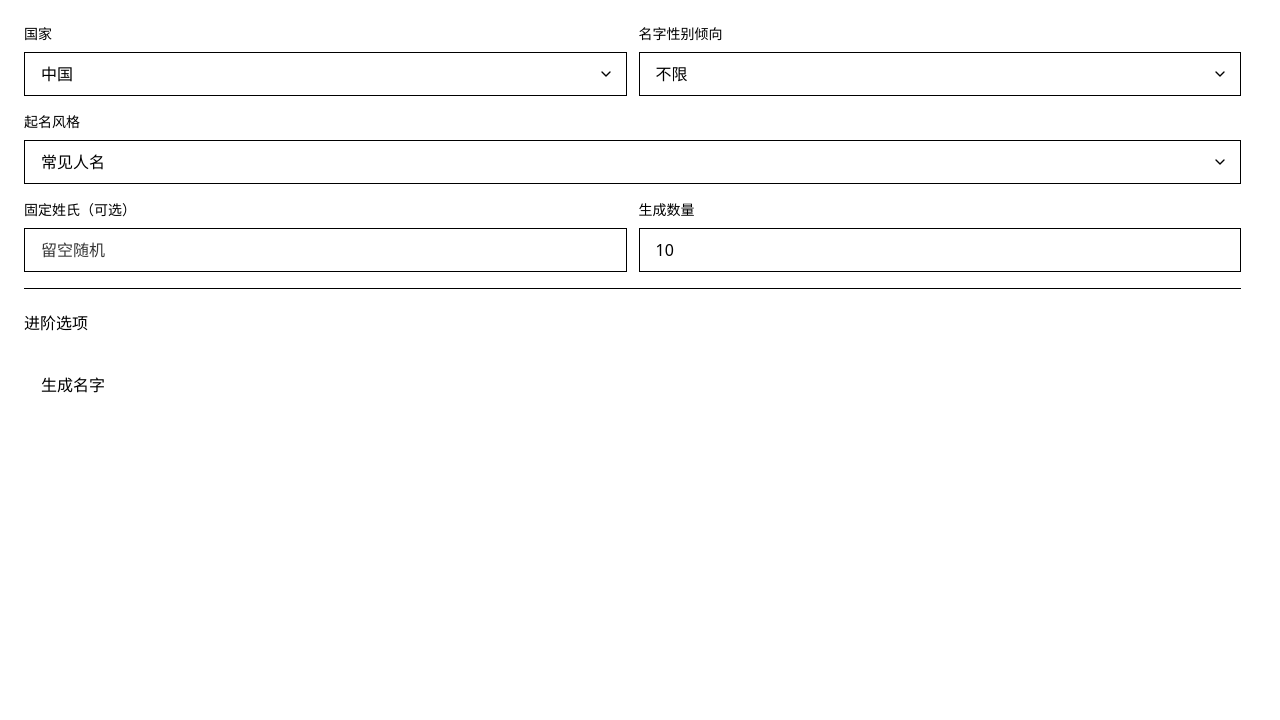
it: 有限重试未凑满时只提示真实结果数，不声称容量
The width and height of the screenshot is (1280, 720).
Replace the text in the number field labelled "生成数量" with "50" at (940, 250), box 638,228 -> 1241,272
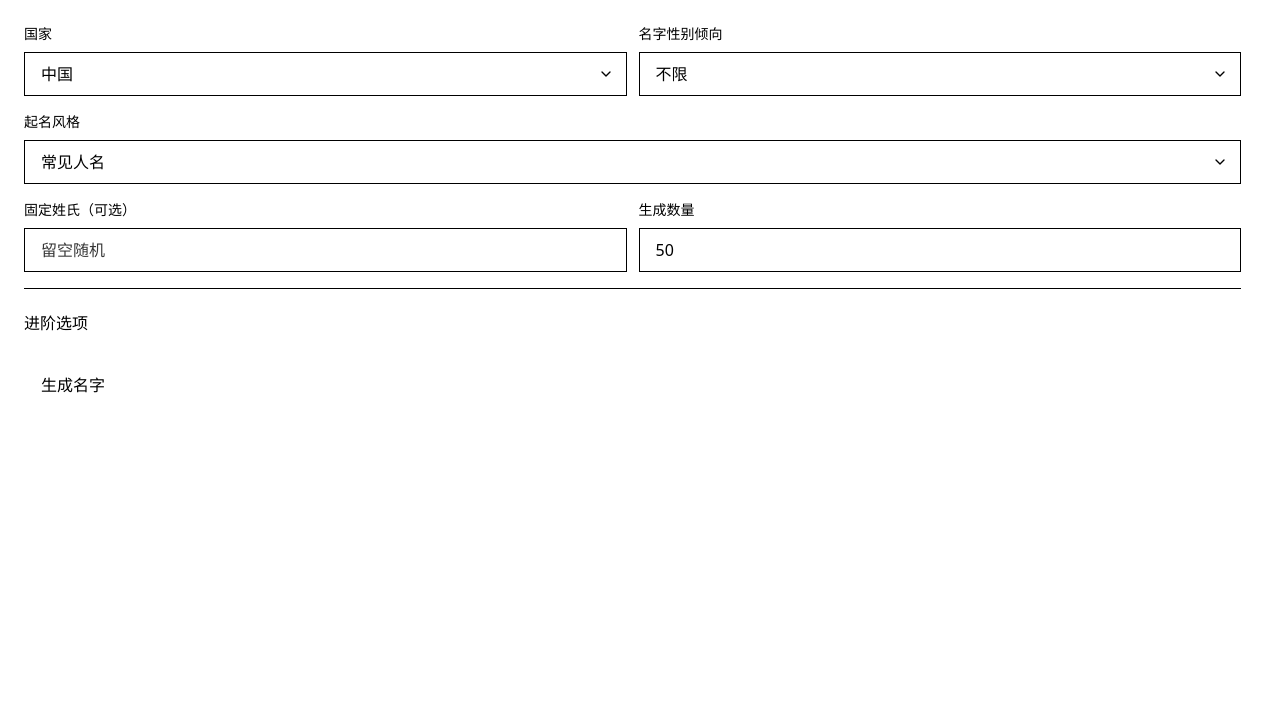
Click the button "进阶选项" at (56, 323), box 24,301 -> 1241,345
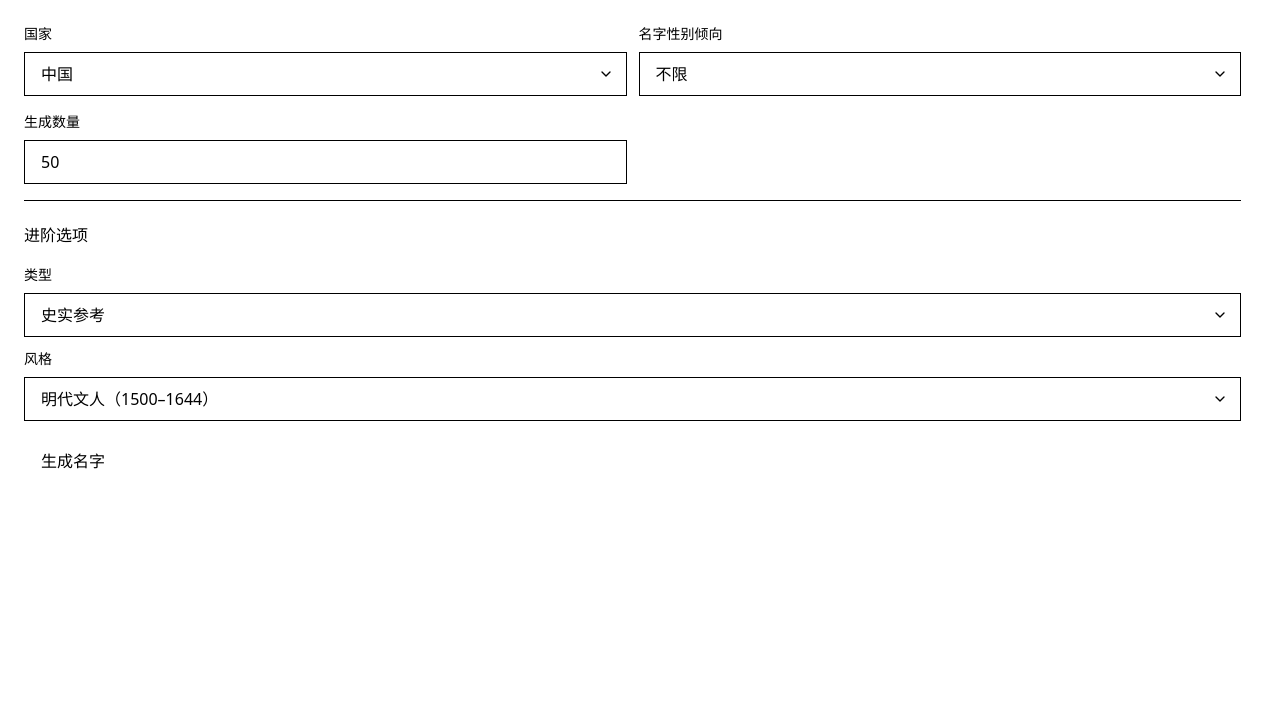
Now the dropdown named "类型" is enabled, box 24,293 -> 1241,337
Click the button "生成名字" at (73, 461), box 24,441 -> 122,481
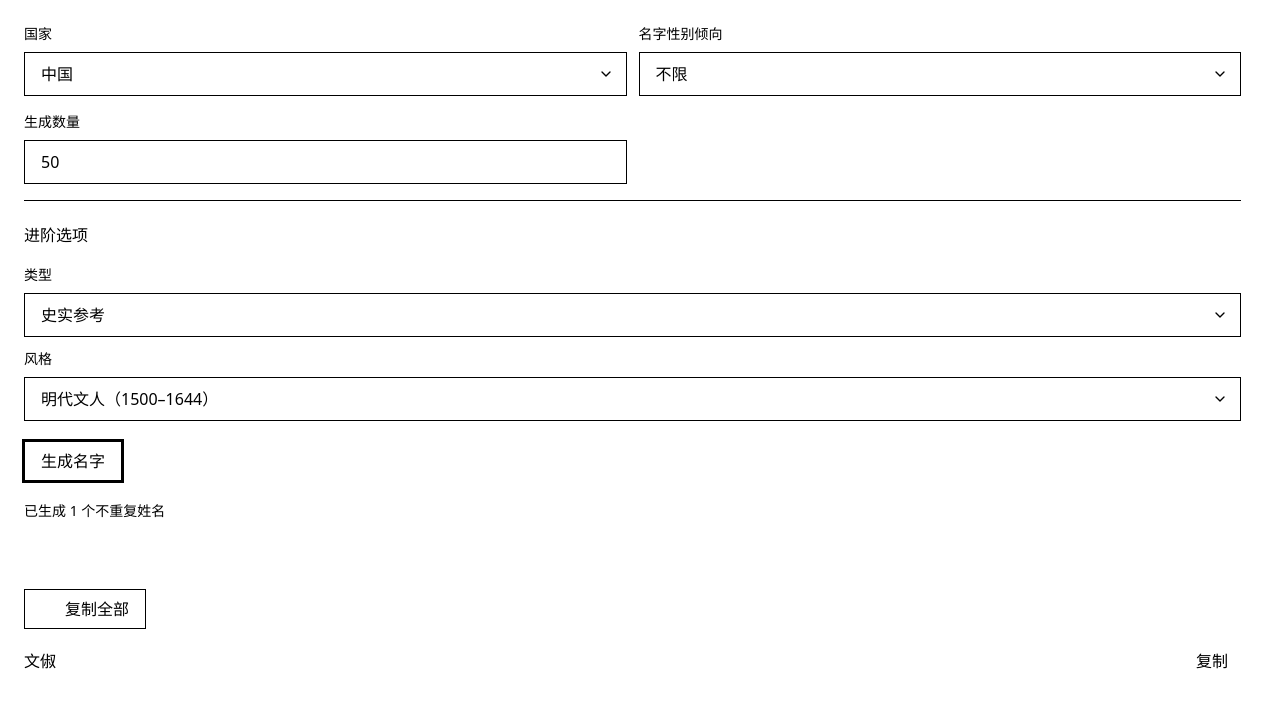
Now the text "已生成 1 个不重复姓名" is shown, box 24,501 -> 165,520
